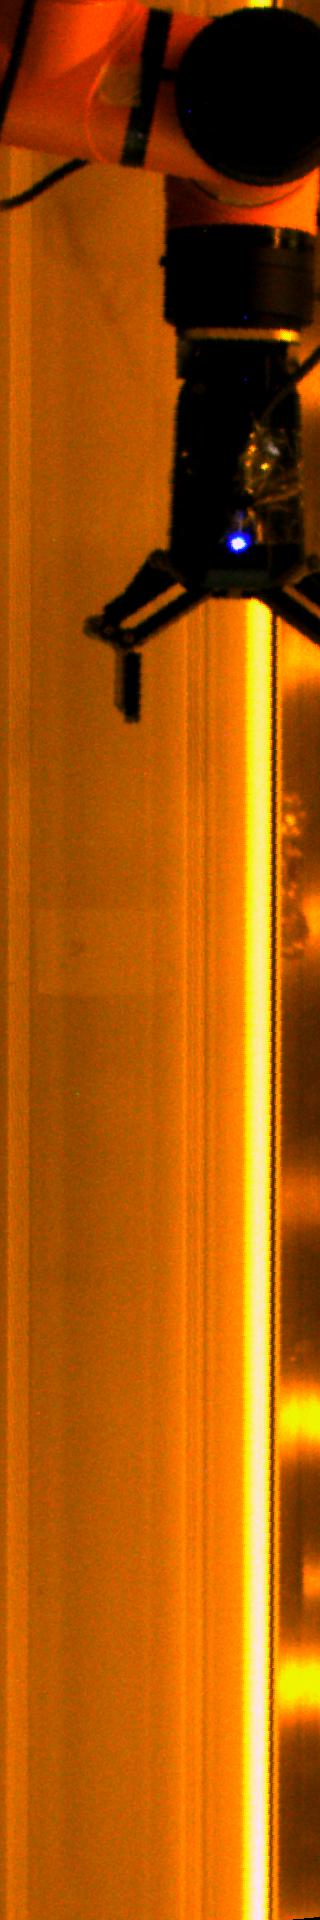keyPoint_1: (224, 529, 254, 560)
